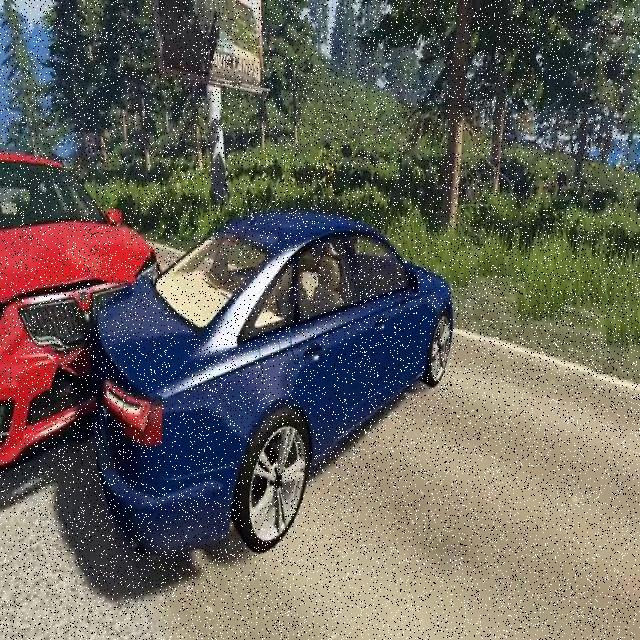high-cars-accident: (0, 142, 381, 547)
